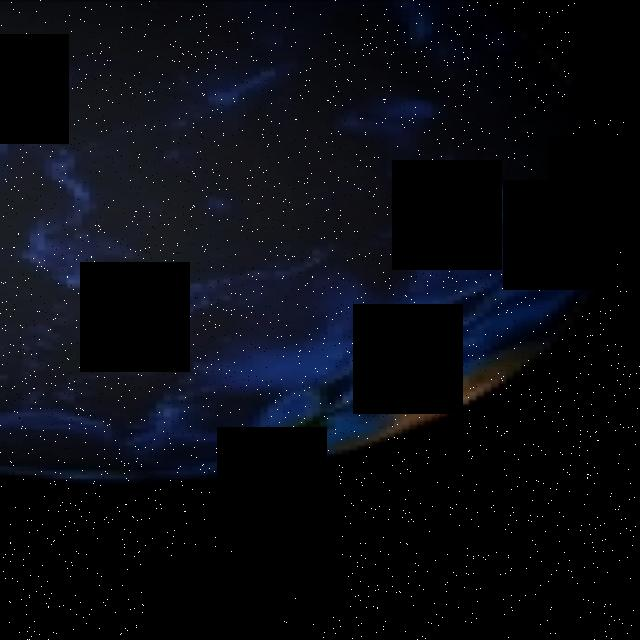Earth: (0, 0, 625, 491)
